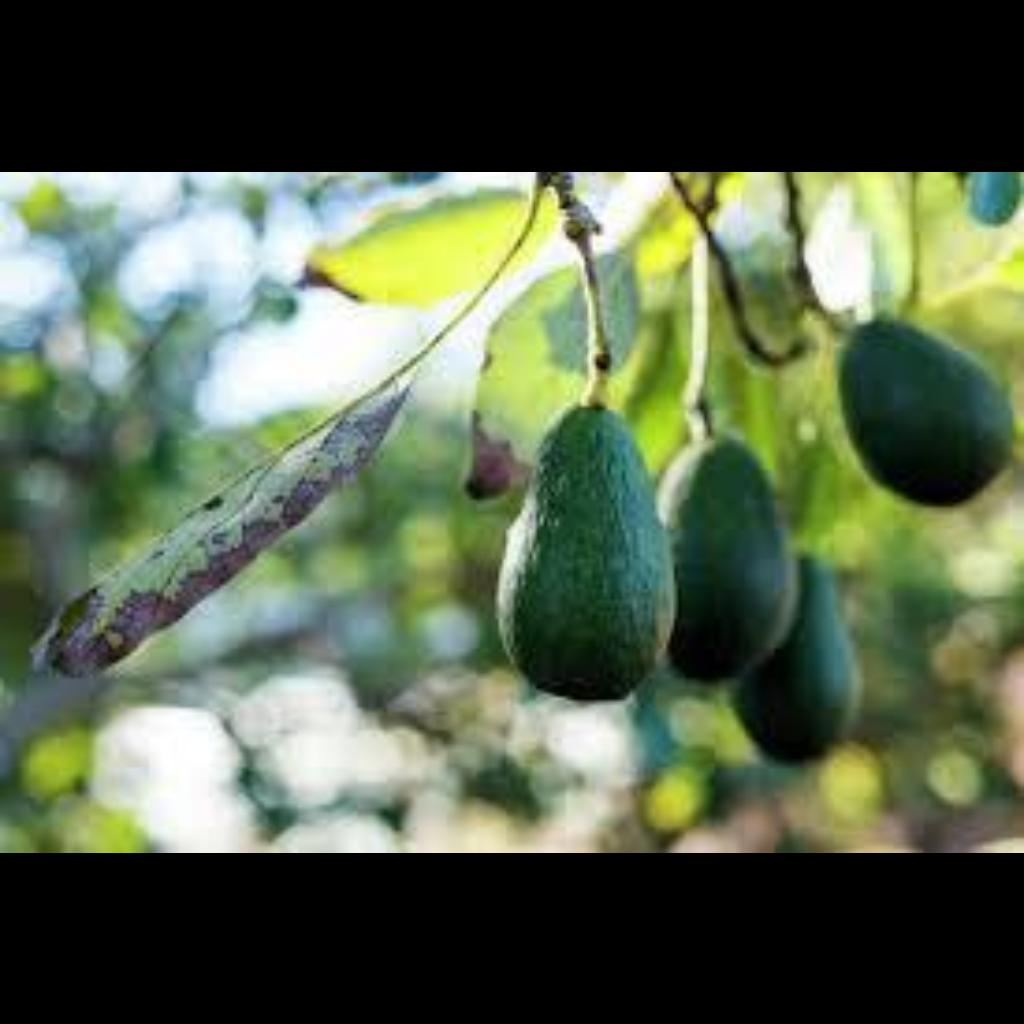Anthracnose: (538, 445, 672, 691), (741, 548, 845, 724)
